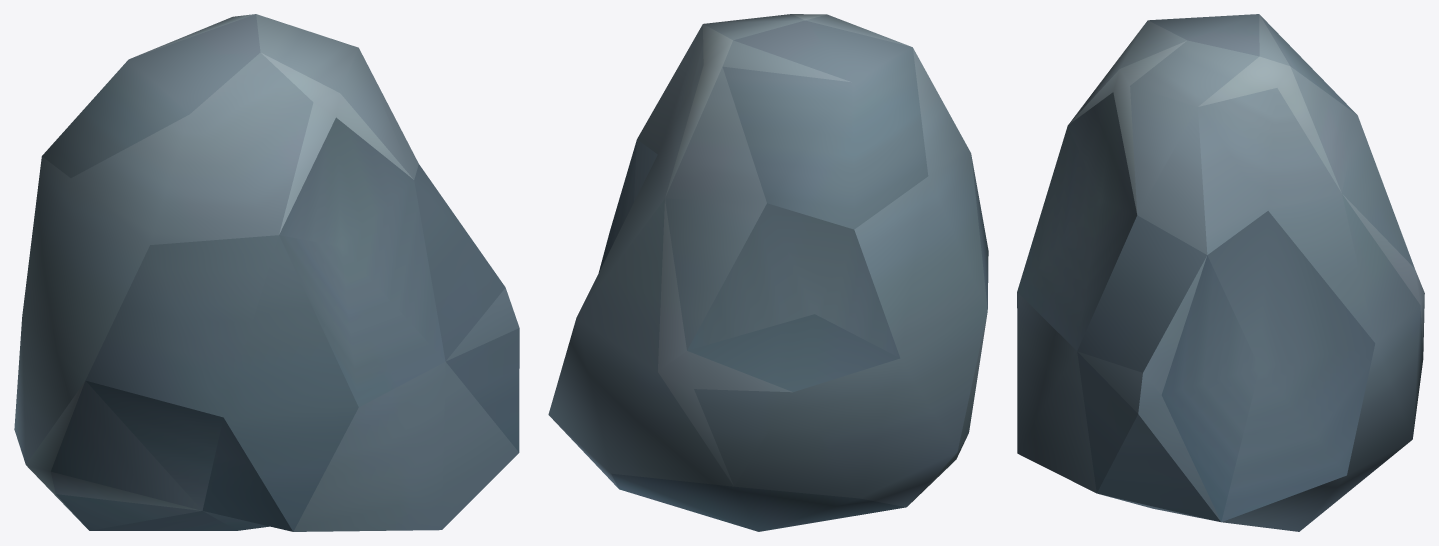
File: iron_nugget_large.glb
3 views of the same model, side by side, from view 1: azimuth 30°, elevation 25°; view 2: azimuth 150°, elevation 25°; view 3: azimuth 270°, elevation 25° (orthographic). The views are drawn at different scales.
Parts seen in each view (by area): view 1: Iron_Nugget_Large; view 2: Iron_Nugget_Large; view 3: Iron_Nugget_Large.
Part boxes in pixels (x1,y1,x2,y2): Iron_Nugget_Large: (14,14,519,531); Iron_Nugget_Large: (548,14,988,531); Iron_Nugget_Large: (1017,14,1424,531).
Size of the model in its own units: 0.4271 by 0.4656 by 0.3947.
Materials: 1 (1 with a texture image).
